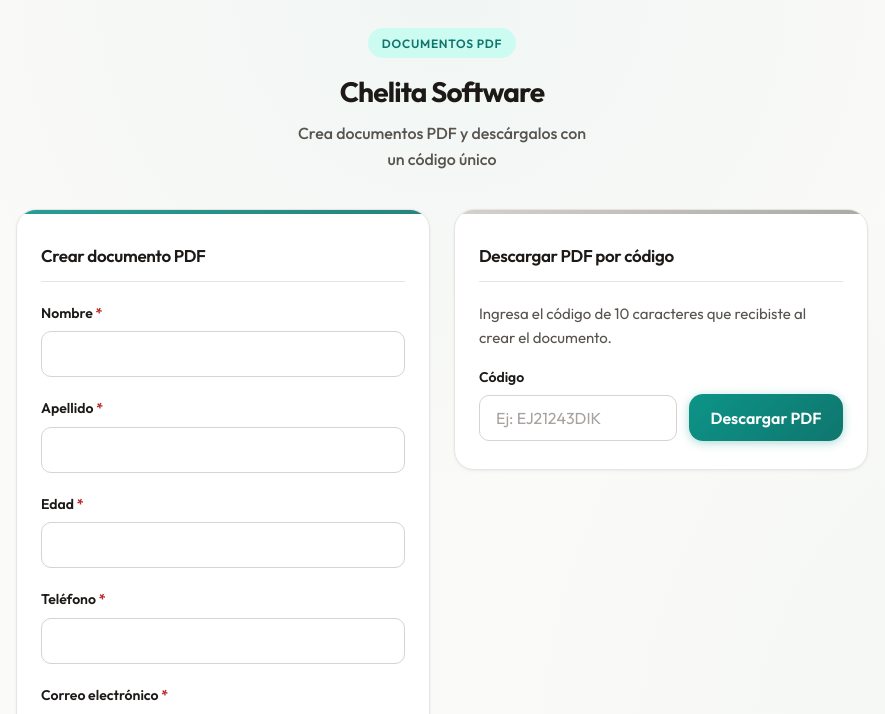
Test: App › nombre con un solo carácter muestra error de validación
Type "A" into the field labelled "Nombre *" at (223,354), box [41,331,405,377]
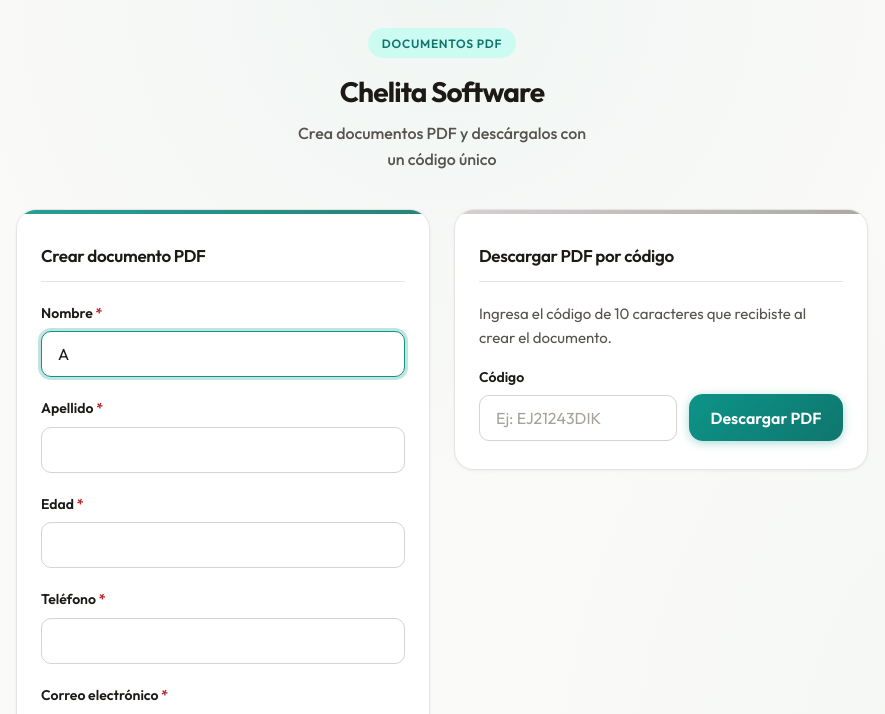
Type "López" into the field labelled "Apellido *" at (223,450), box [41,427,405,473]
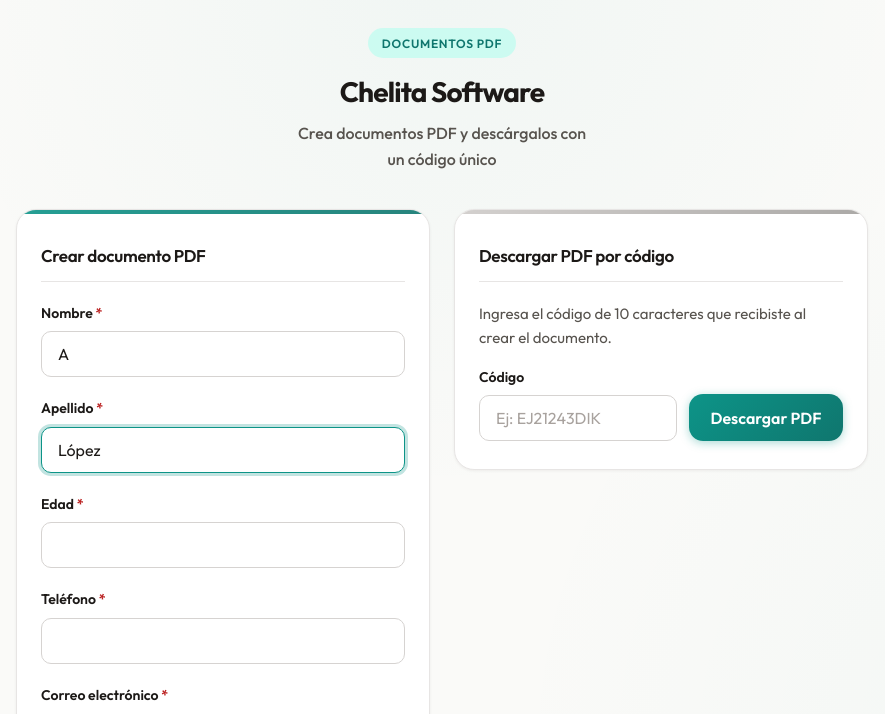
Type "30" into the field labelled "Edad *" at (223,546), box [41,522,405,568]
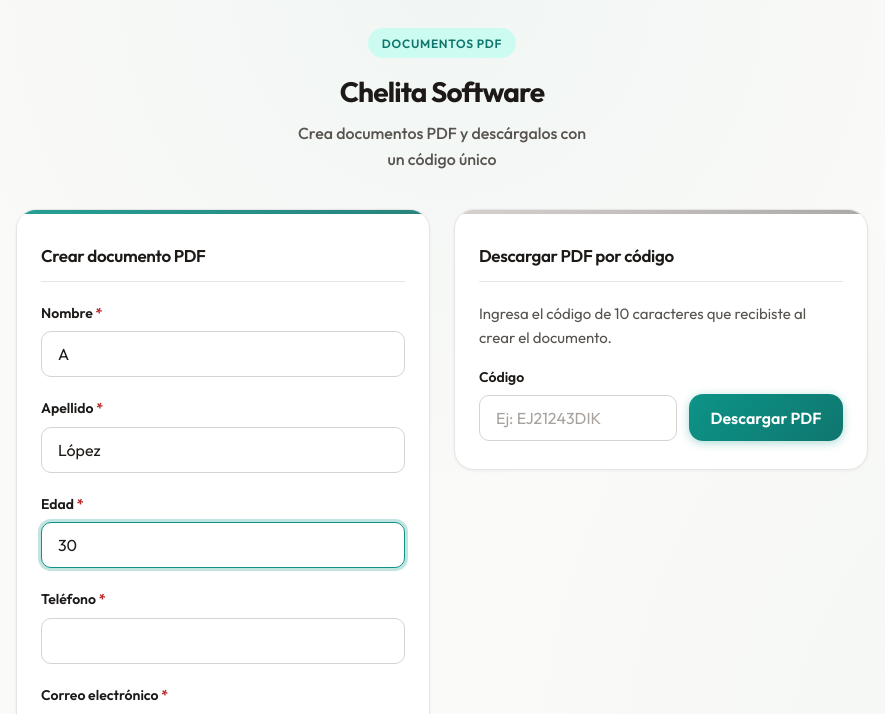
Type "5512345678" into the field labelled "Teléfono *" at (223,641), box [41,618,405,664]
(page scrolled)
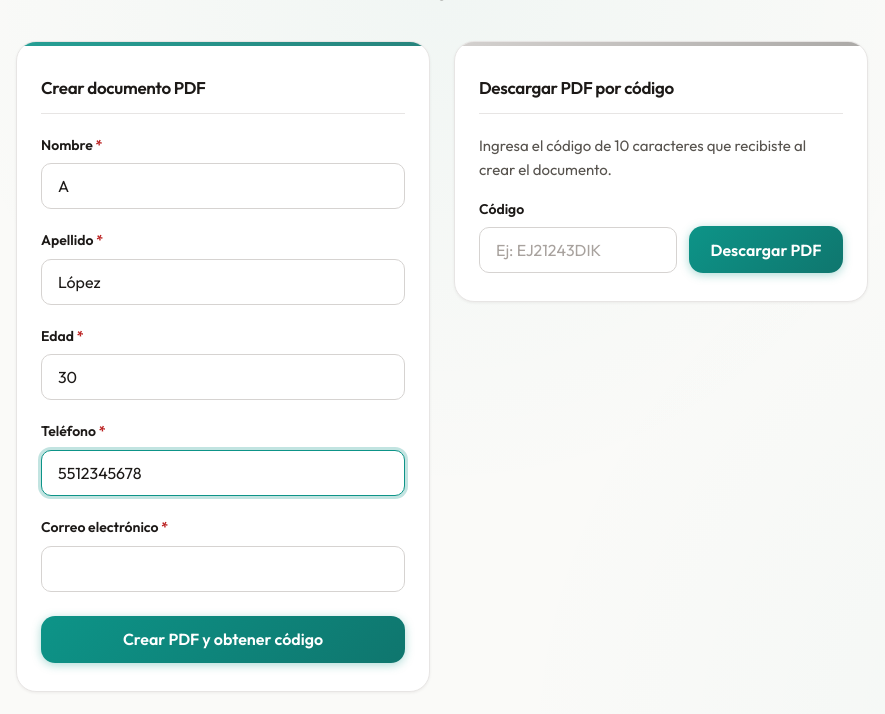
Type "maria@test.com" into the field labelled "Correo electrónico *" at (223,569), box [41,546,405,592]
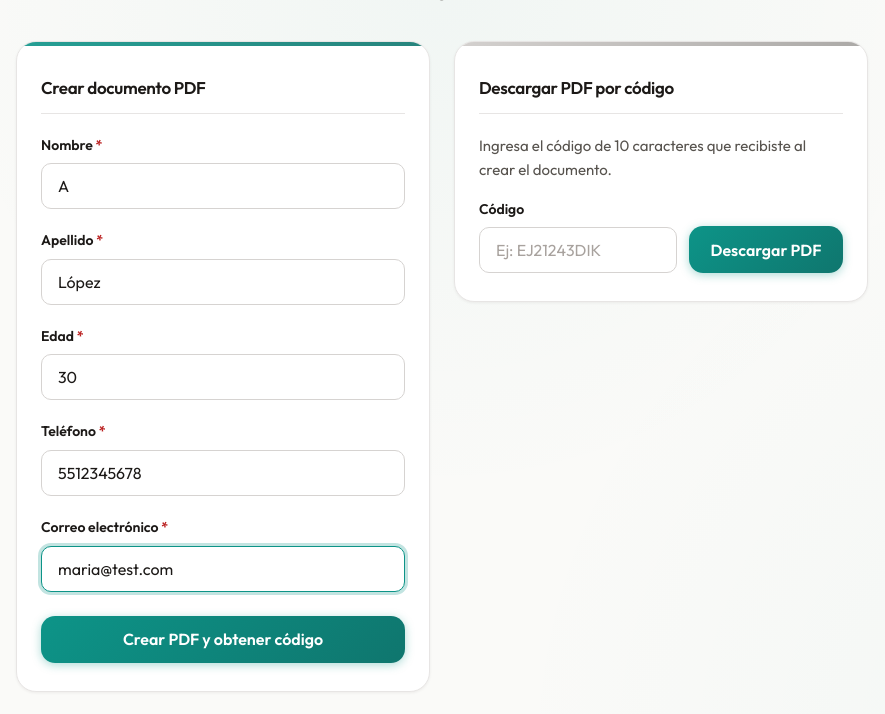
Click the button "Crear PDF y obtener código" at (223,639), box [41,616,405,663]
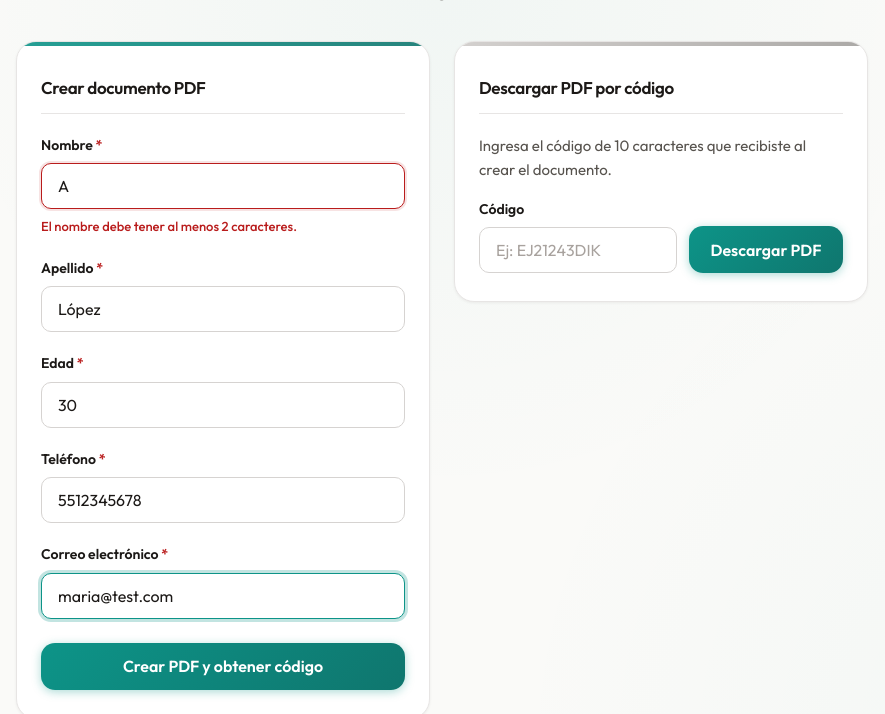
Result: the text "El nombre debe tener al menos 2 caracteres." is shown at [41,218,297,234]
